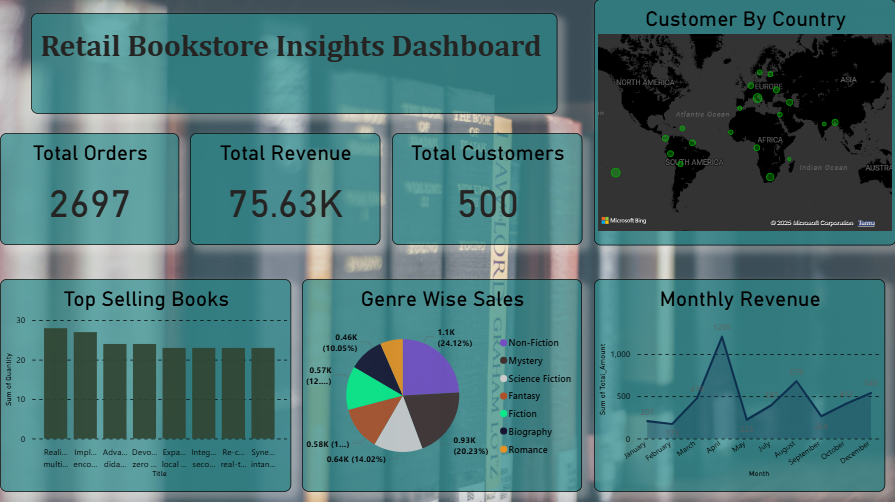

The dashboard page shown, as its layout file describes it:
{"tool":"powerbi","page":{"name":"Page 1","canvas":[1280,720],"ordinal":0},"visuals":[{"type":"card","title":"Total Orders","fields":{"Values":["Sum(orders.Quantity)"]},"box":[0,192,256,160],"z":0},{"type":"card","title":"Total Revenue","fields":{"Values":["Sum(orders.Total_Amount)"]},"box":[272,192,272,160],"z":1000},{"type":"card","title":"Total Customers","fields":{"Values":["CountNonNull(Customers.Customer_ID)"]},"box":[560,192,272,160],"z":2000},{"type":"clusteredColumnChart","title":"Top Selling Books","fields":{"Category":["Books.Title"],"Y":["Sum(orders.Quantity)"]},"box":[0,400,416,304],"z":3000},{"type":"pieChart","title":"Genre Wise Sales","fields":{"Category":["Books.Genre"],"Y":["Sum(orders.Total_Amount)"]},"box":[432,400,400,304],"z":4000},{"type":"lineChart","title":"Monthly Revenue","fields":{"Y":["Sum(orders.Total_Amount)"],"Category":["orders.Order_Date.Variation.Date Hierarchy.Month"]},"box":[848,400,416,304],"z":5000},{"type":"map","title":"Customer By Country","fields":{"Size":["Sum(orders.Total_Amount)"],"Category":["Customers.Country"]},"box":[848,0,432,352],"z":5001},{"type":"textbox","box":[44,20,752,144],"z":5002}]}

Visuals, with their boxes in screenshot pixels (x1, y1, x2, y2), scaled from the page's 1280x720 canvas onto the 895x502 screenshot:
"Total Orders" card: l=0, t=134, r=179, b=245
"Total Revenue" card: l=190, t=134, r=380, b=245
"Total Customers" card: l=392, t=134, r=582, b=245
"Top Selling Books" clusteredColumnChart: l=0, t=279, r=291, b=491
"Genre Wise Sales" pieChart: l=302, t=279, r=582, b=491
"Monthly Revenue" lineChart: l=593, t=279, r=884, b=491
"Customer By Country" map: l=593, t=0, r=894, b=245
textbox: l=31, t=14, r=557, b=114
